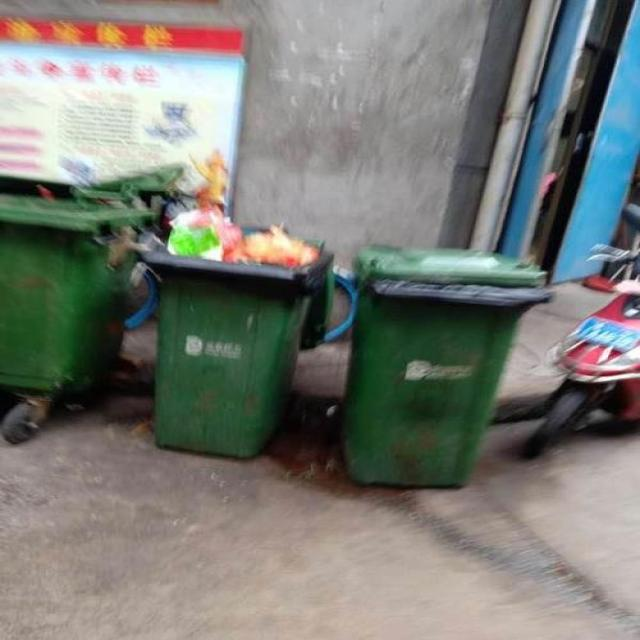garbage_bin: (346, 250, 546, 490), (0, 192, 155, 389)
overflow: (142, 208, 333, 455)
